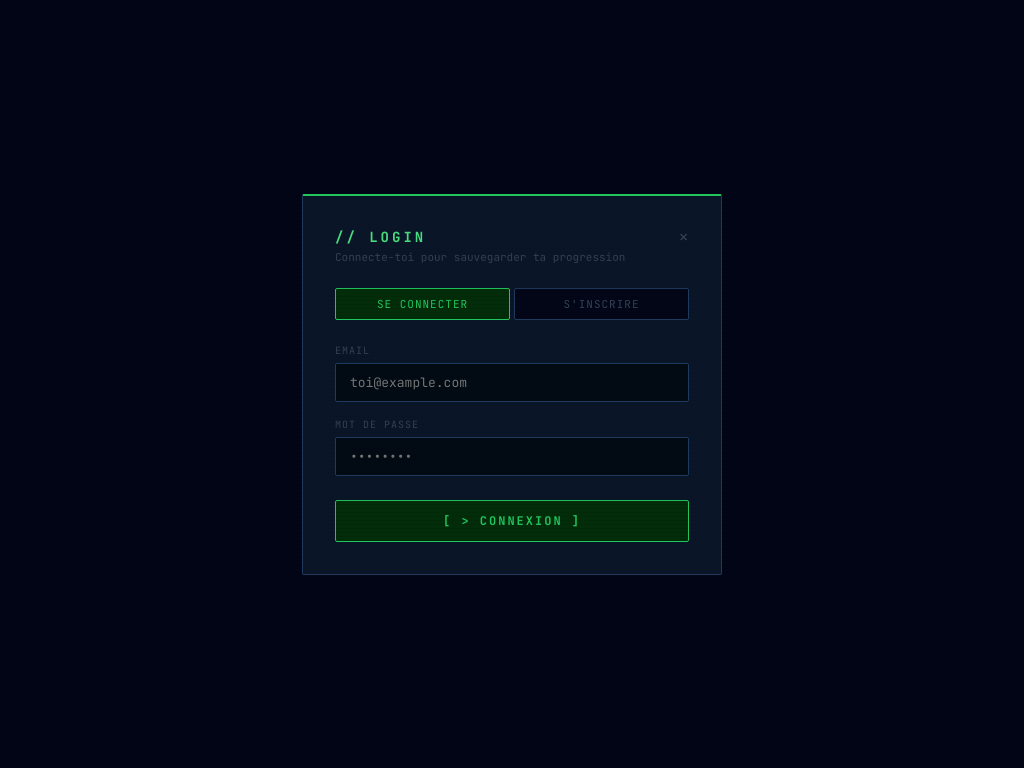
AuthModal — switch de mode › cliquer sur S'INSCRIRE affiche le champ username
This screenshot has width=1024, height=768.
Click the button "S'inscrire" at (602, 304), box [514,288,689,320]
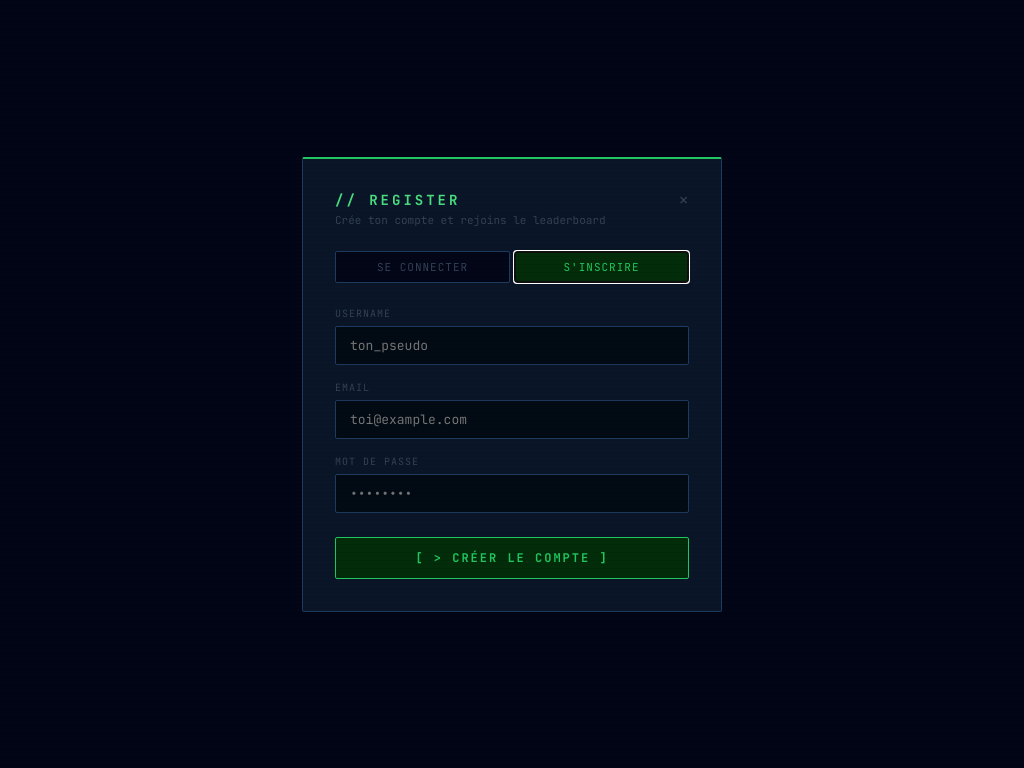
Expected: the field with placeholder "ton_pseudo" is shown, [335,326,689,364]
